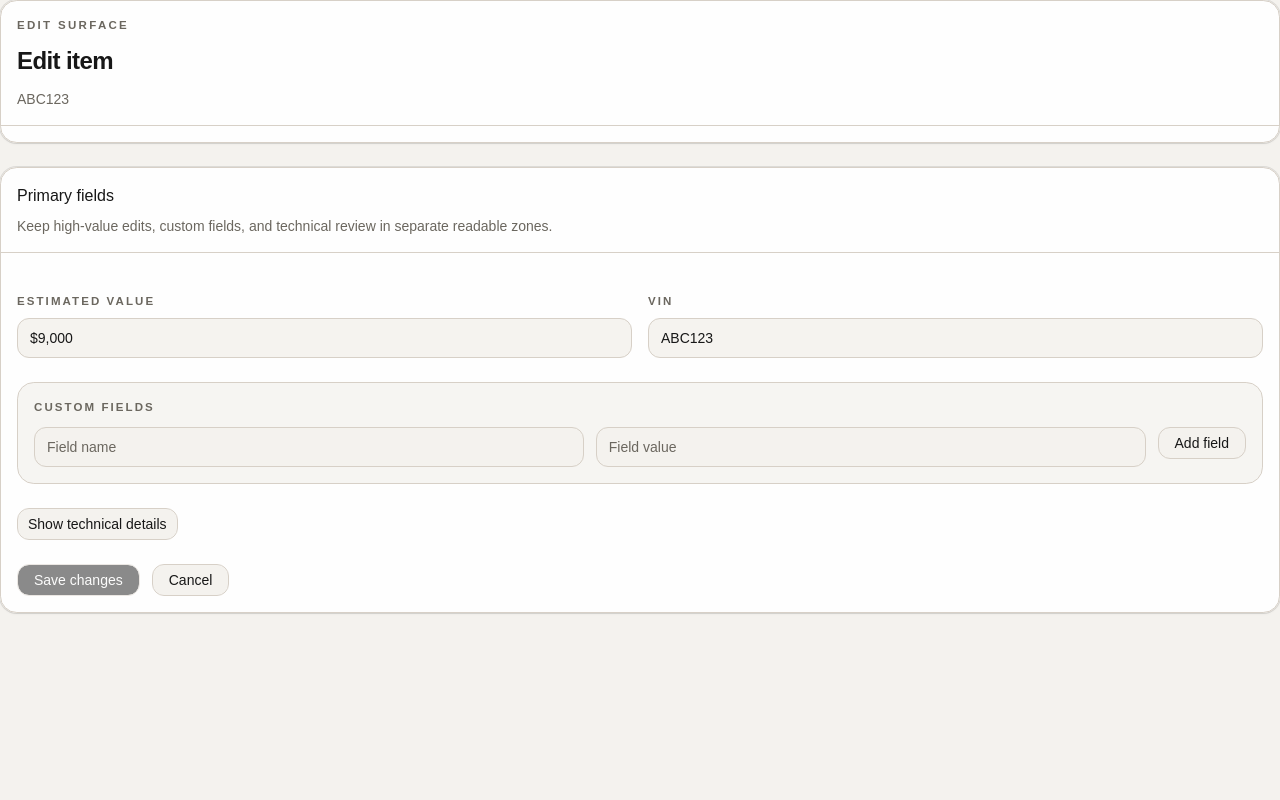
Test: items workflows › shows edit error feedback when update API returns issue envelope
expect the text "Edit item" is shown: met, box [17,47,113,74]
Replace the text in the field labelled "Estimated value" with "9500": point(324, 338) [17,318,632,358]
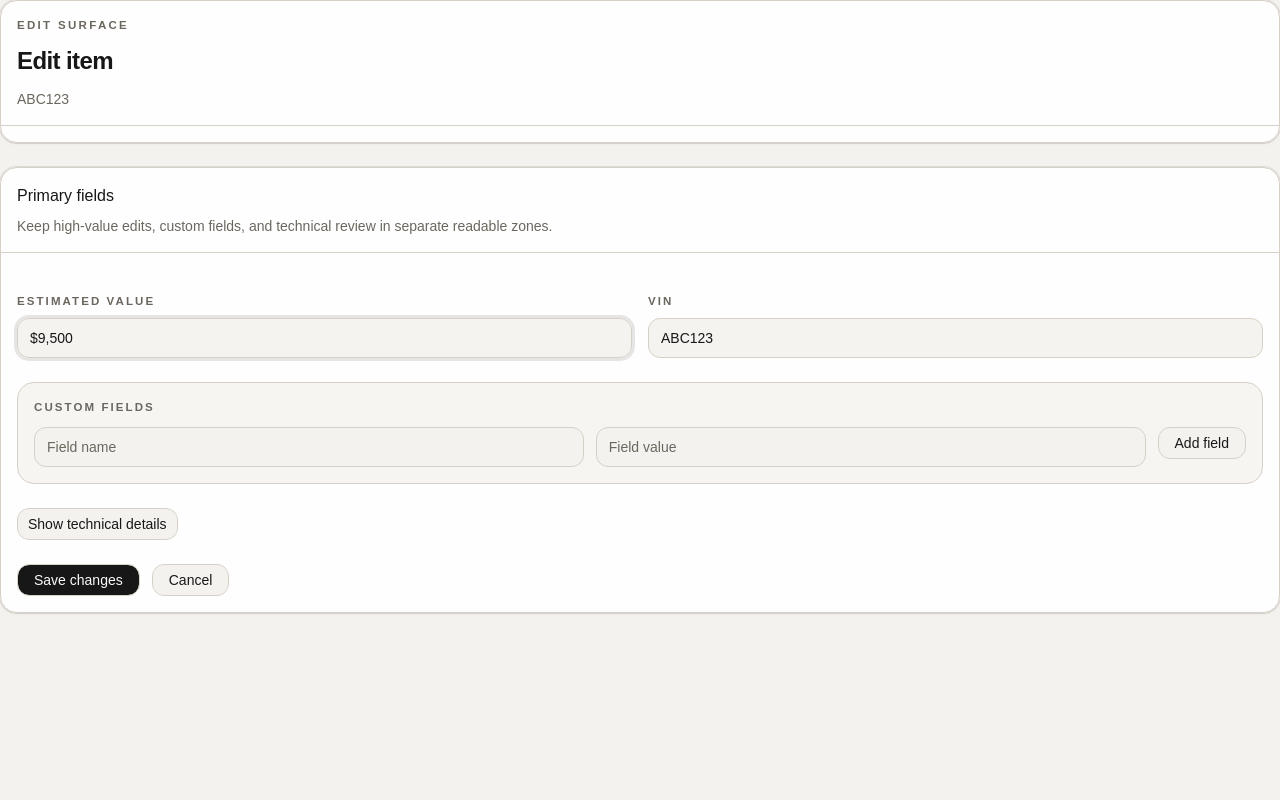
Click the button "Save changes": point(78, 580) [17,564,140,596]
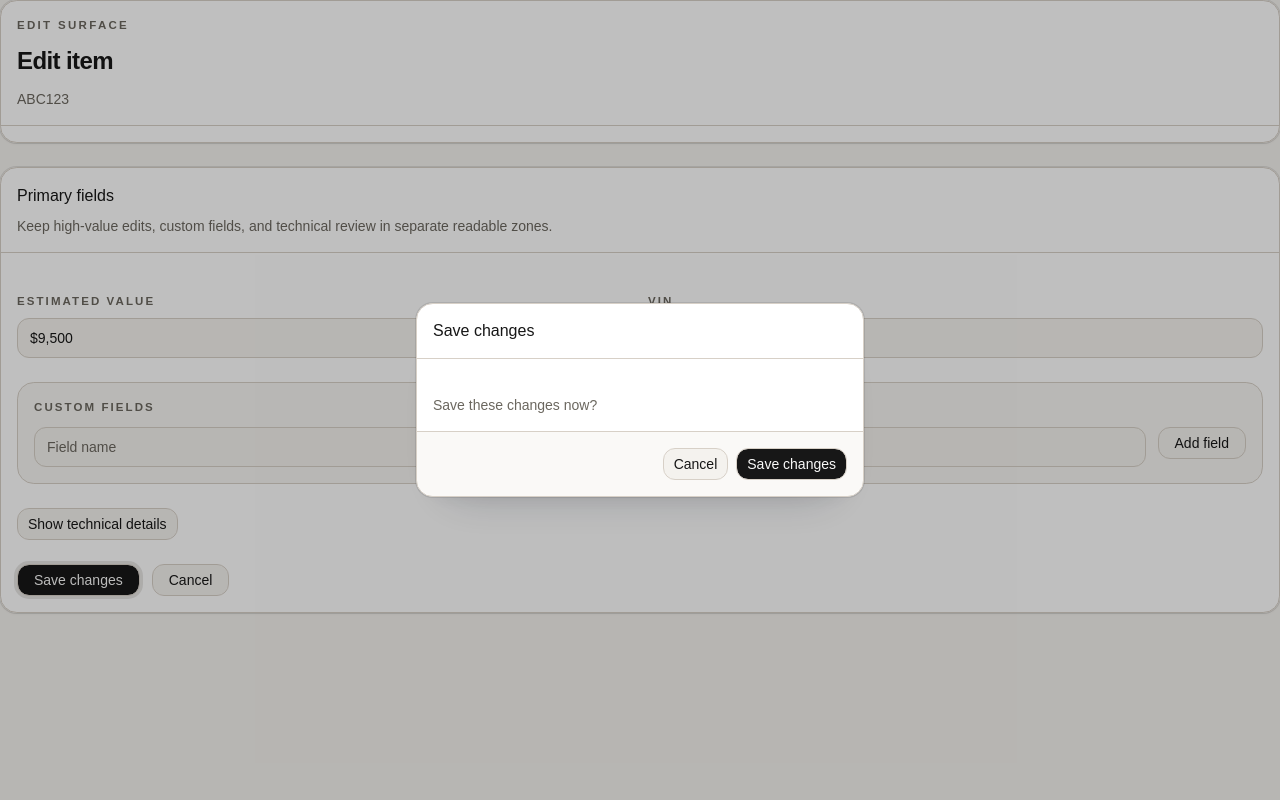
Click the button "Save changes": point(792, 464) [736,448,847,480]
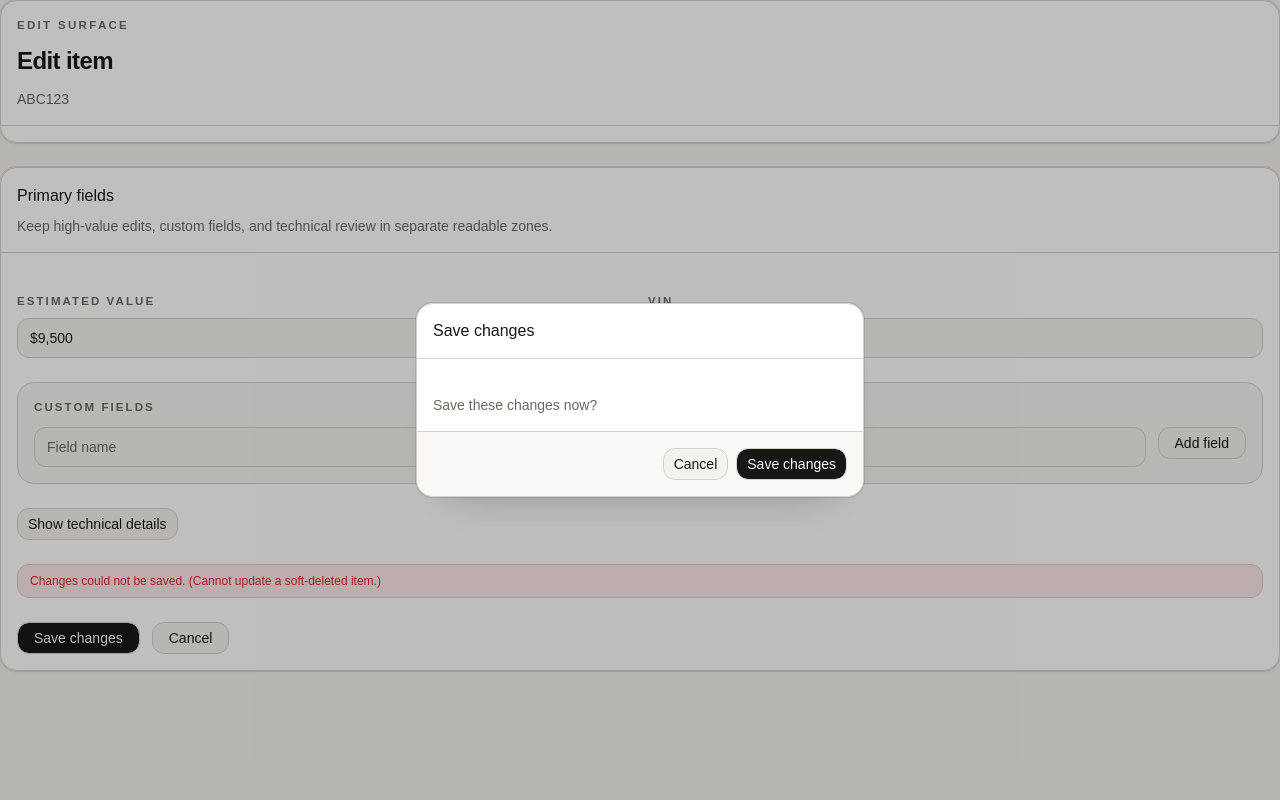
expect the text "Cannot update a soft-deleted item." is shown: met, box [30,574,381,588]
